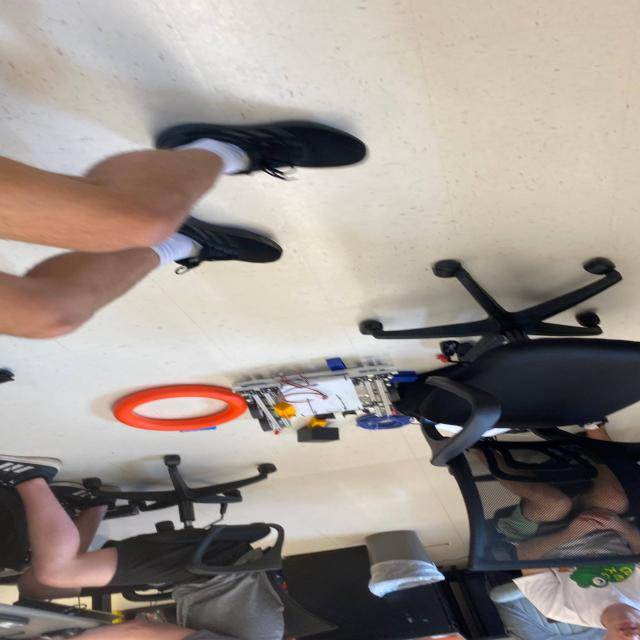blue-specimen: (388, 371, 418, 383), (326, 357, 346, 371)
yellow-specimen: (274, 401, 296, 419), (307, 416, 330, 427)
